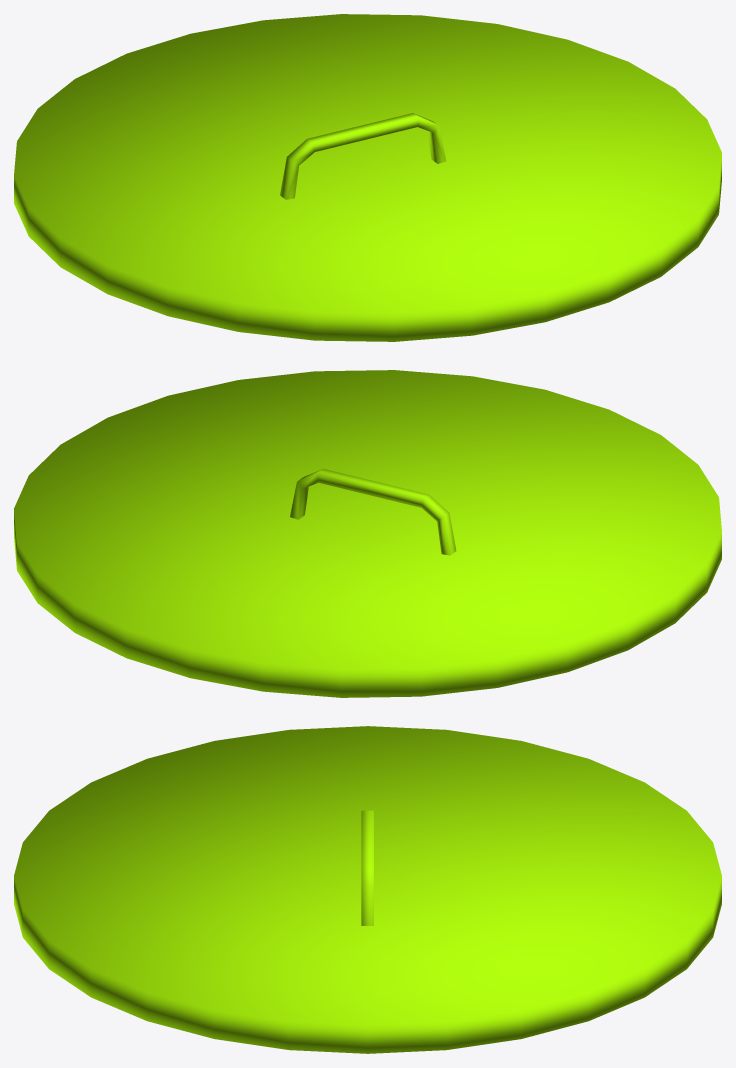
File: Trashcan_Lid_COL.FBX
The picture shows the model from 3 angles, top to bottom: view 1: azimuth 30°, elevation 25°; view 2: azimuth 150°, elevation 25°; view 3: azimuth 270°, elevation 25°; orthographic projection.
Parts seen in each view (by area): view 1: Trashcan_Lid_COL; view 2: Trashcan_Lid_COL; view 3: Trashcan_Lid_COL.
Part boxes in pixels (box(x1,y1,x2,y2)): Trashcan_Lid_COL: box(14, 14, 721, 341); Trashcan_Lid_COL: box(14, 370, 721, 697); Trashcan_Lid_COL: box(14, 726, 721, 1053).
Bounding box in the file's own units: 66.17 × 6.88 × 66.17.
